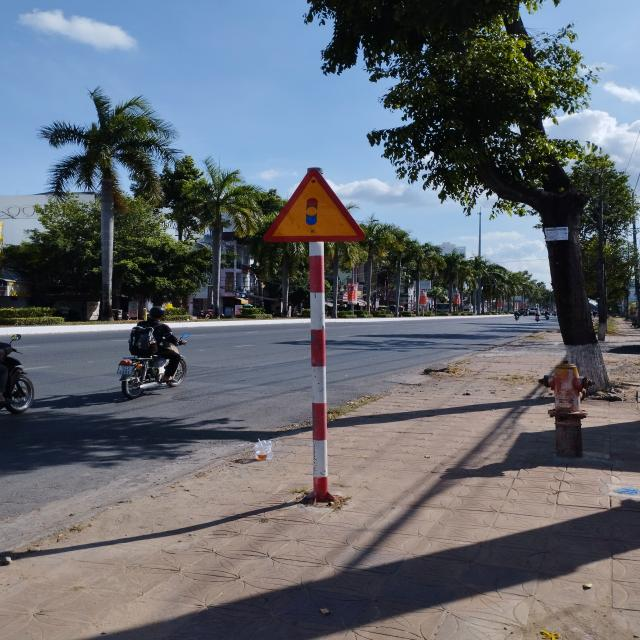Duong_Co_Go_Giam_Toc: (262, 168, 367, 242)
